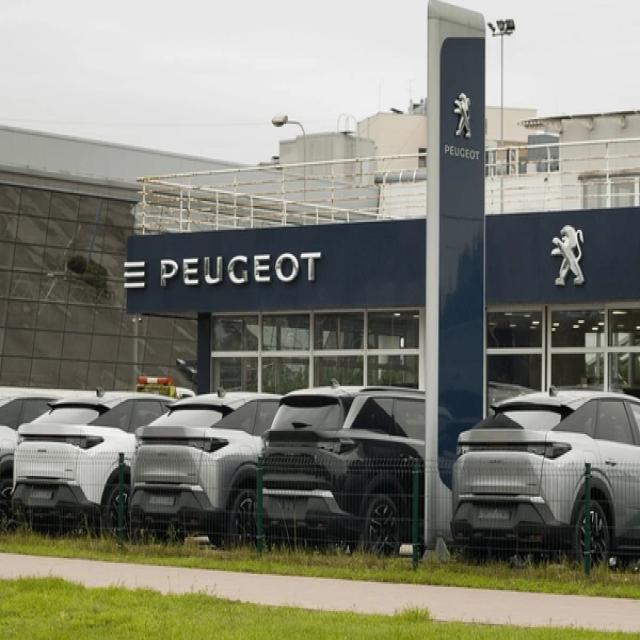pegout: (544, 217, 587, 293)
